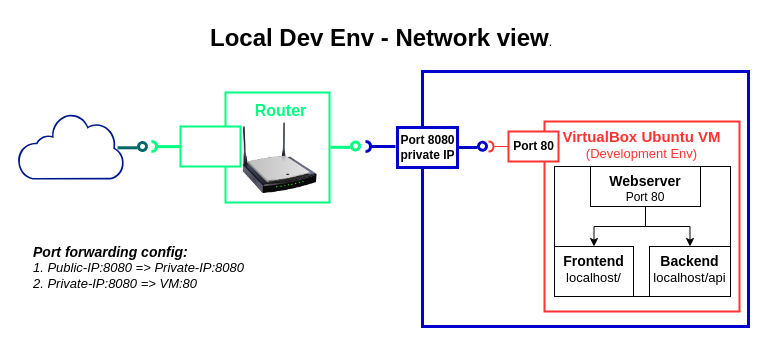
Image size: 768x345. Some labels were removed from this diagram. Each missing label, with the box of its shape:
Host-Machine (Windows, Mac, Linux): (420, 70, 750, 328)
Internet Users: (17, 113, 124, 179)
Port 8080 public IP: (179, 125, 241, 167)
